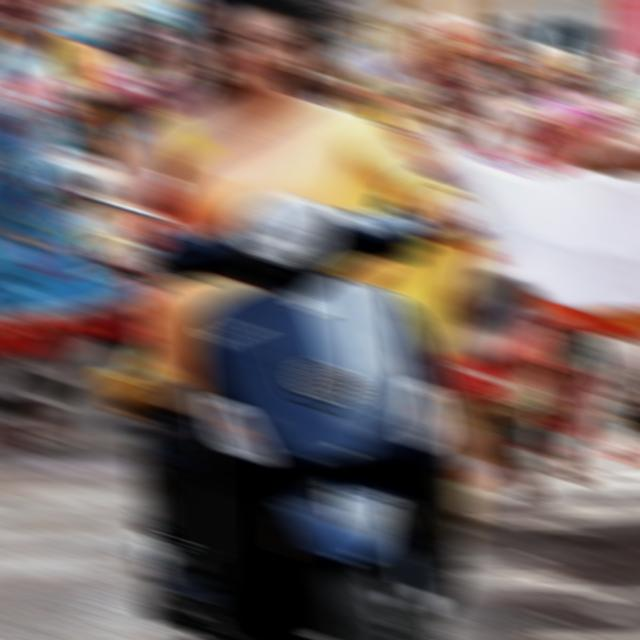Without Helmet: (184, 0, 335, 100)
